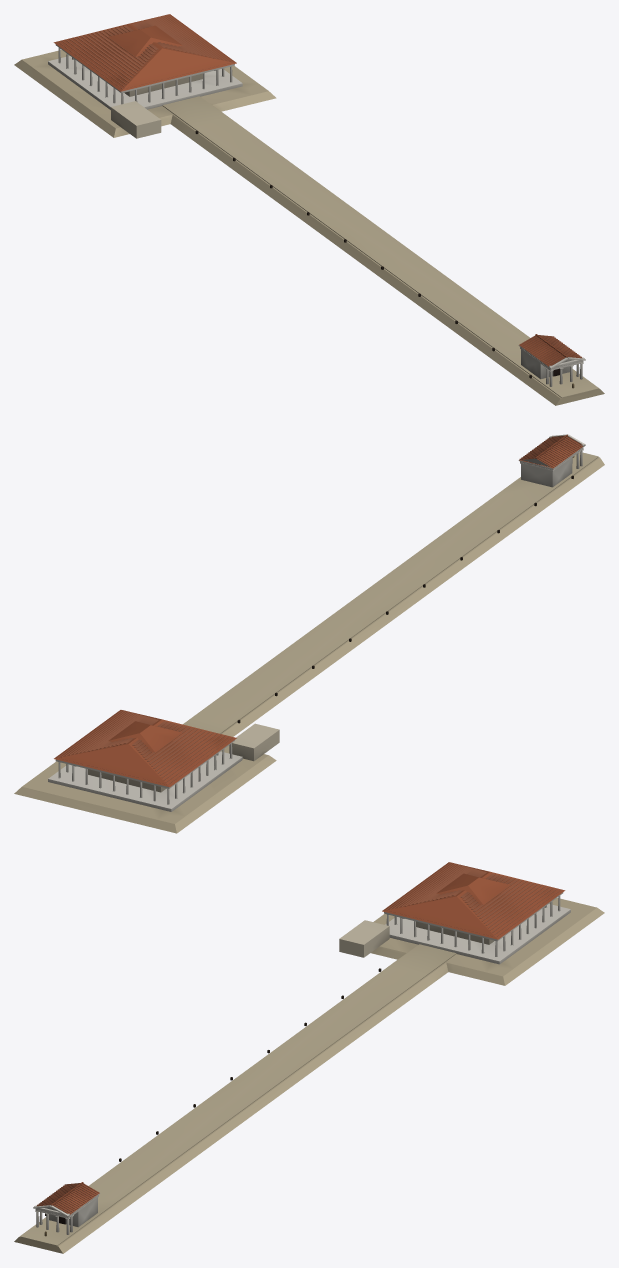
The model's file is timonium.glb.
3 views of the same model, one above another, from view 1: azimuth 30°, elevation 25°; view 2: azimuth 150°, elevation 25°; view 3: azimuth 330°, elevation 25° (orthographic).
Visible parts, largest first — view 1: p0_mole, p3_roof, p2_timonium, p1_poseidion; view 2: p0_mole, p3_roof, p2_timonium, p1_poseidion; view 3: p0_mole, p3_roof, p2_timonium, p1_poseidion.
Part boxes in pixels (<box>): p0_mole: <box>14,50,604,405</box>; p3_roof: <box>53,14,236,138</box>; p2_timonium: <box>48,44,242,109</box>; p1_poseidion: <box>518,334,585,388</box>; p0_mole: <box>14,452,604,833</box>; p3_roof: <box>54,710,279,787</box>; p2_timonium: <box>48,740,242,811</box>; p1_poseidion: <box>518,434,585,487</box>; p0_mole: <box>14,898,604,1253</box>; p3_roof: <box>339,862,565,957</box>; p2_timonium: <box>384,892,570,964</box>; p1_poseidion: <box>33,1182,100,1236</box>.
Size of the model in its own units: 66 by 18.6 by 340.
